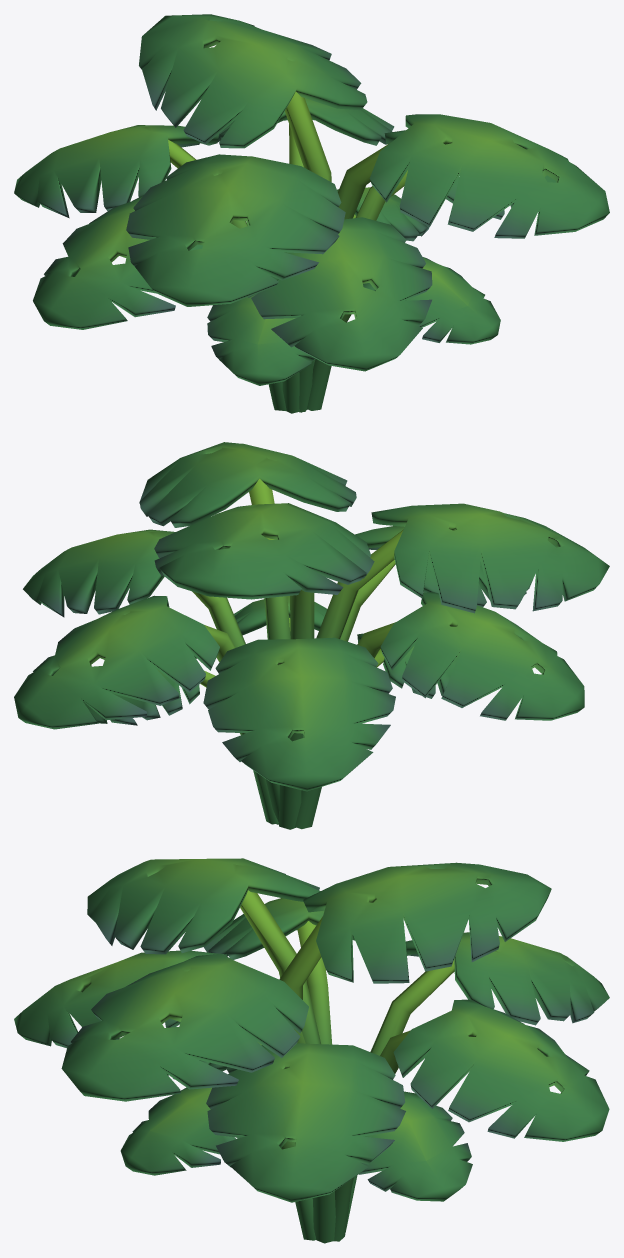
The model's file is Plants_016.fbx.
The picture shows the model from 3 angles, top to bottom: view 1: azimuth 30°, elevation 25°; view 2: azimuth 150°, elevation 25°; view 3: azimuth 270°, elevation 25°; orthographic projection. The views are drawn at different scales.
Visible parts, largest first — view 1: Plants.016; view 2: Plants.016; view 3: Plants.016.
Boxes of the visible parts, x1,y1,x2,y2 form: Plants.016: [14, 14, 609, 413]; Plants.016: [14, 442, 609, 829]; Plants.016: [14, 858, 609, 1243].
Size of the model in its own units: 1066 by 635 by 960.
